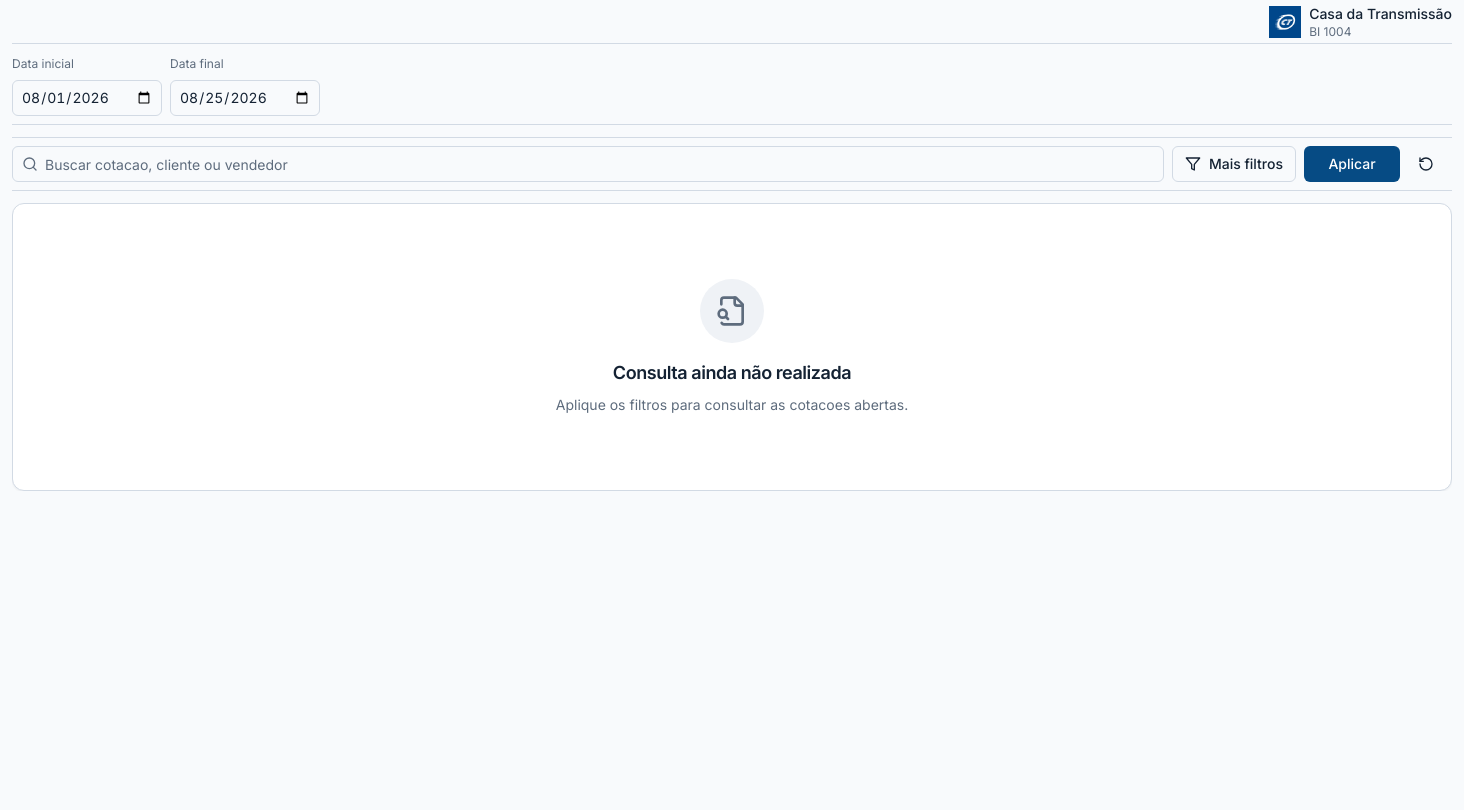
Test: open quotes page › uses the compact operational desk after the operator applies the search
Click the button "Aplicar" at {"x": 1352, "y": 164}, box [1304, 146, 1400, 182]
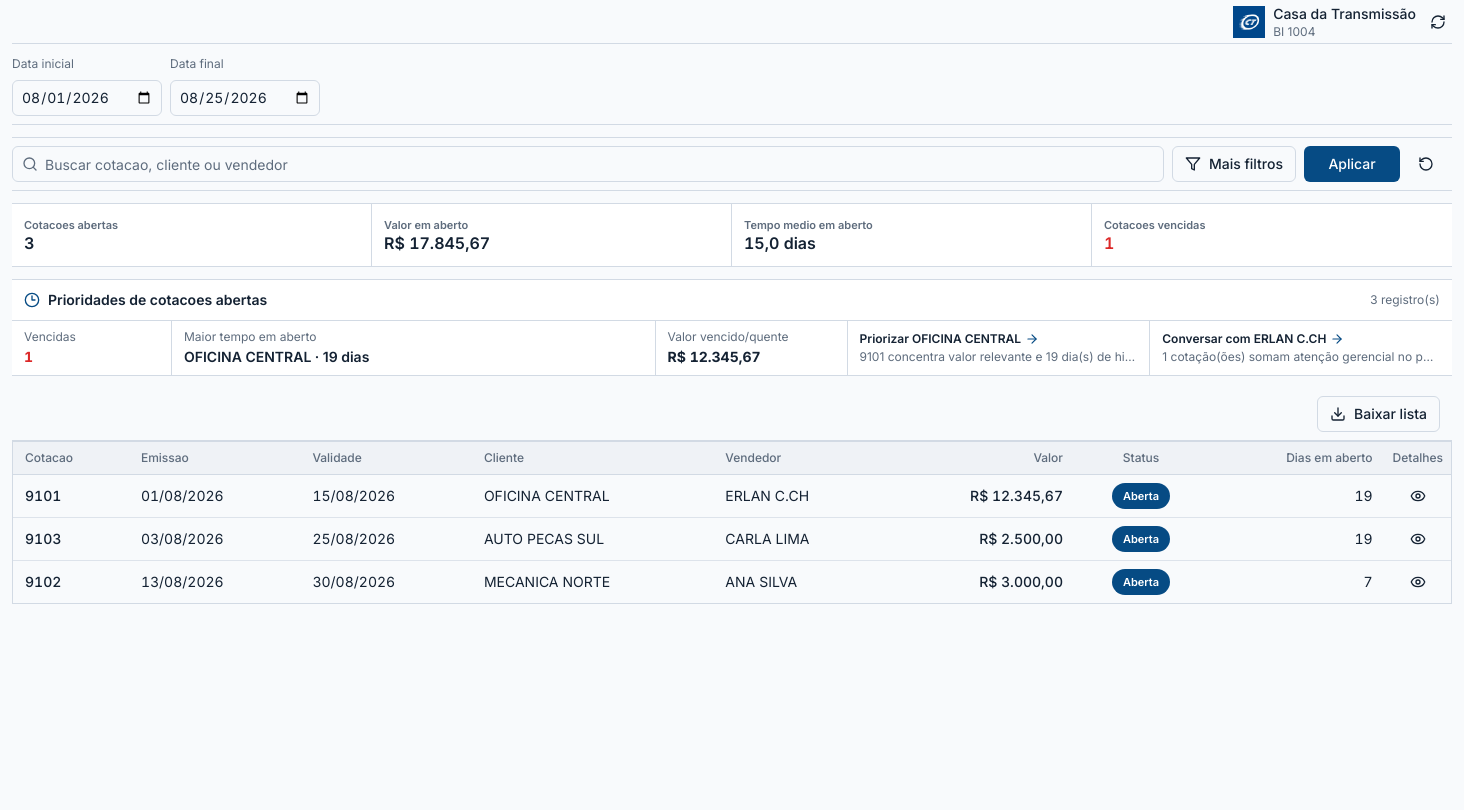
Check: the number of elements with class "commercial-table-frame" is 1, box [12, 388, 1452, 604]
Check: the element labelled "Prioridades de cotacoes abertas" is shown, box [12, 279, 1452, 376]
